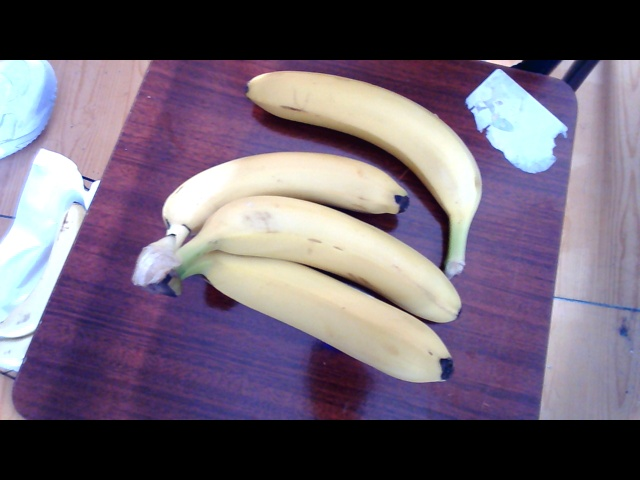banana: (153, 61, 478, 392)
